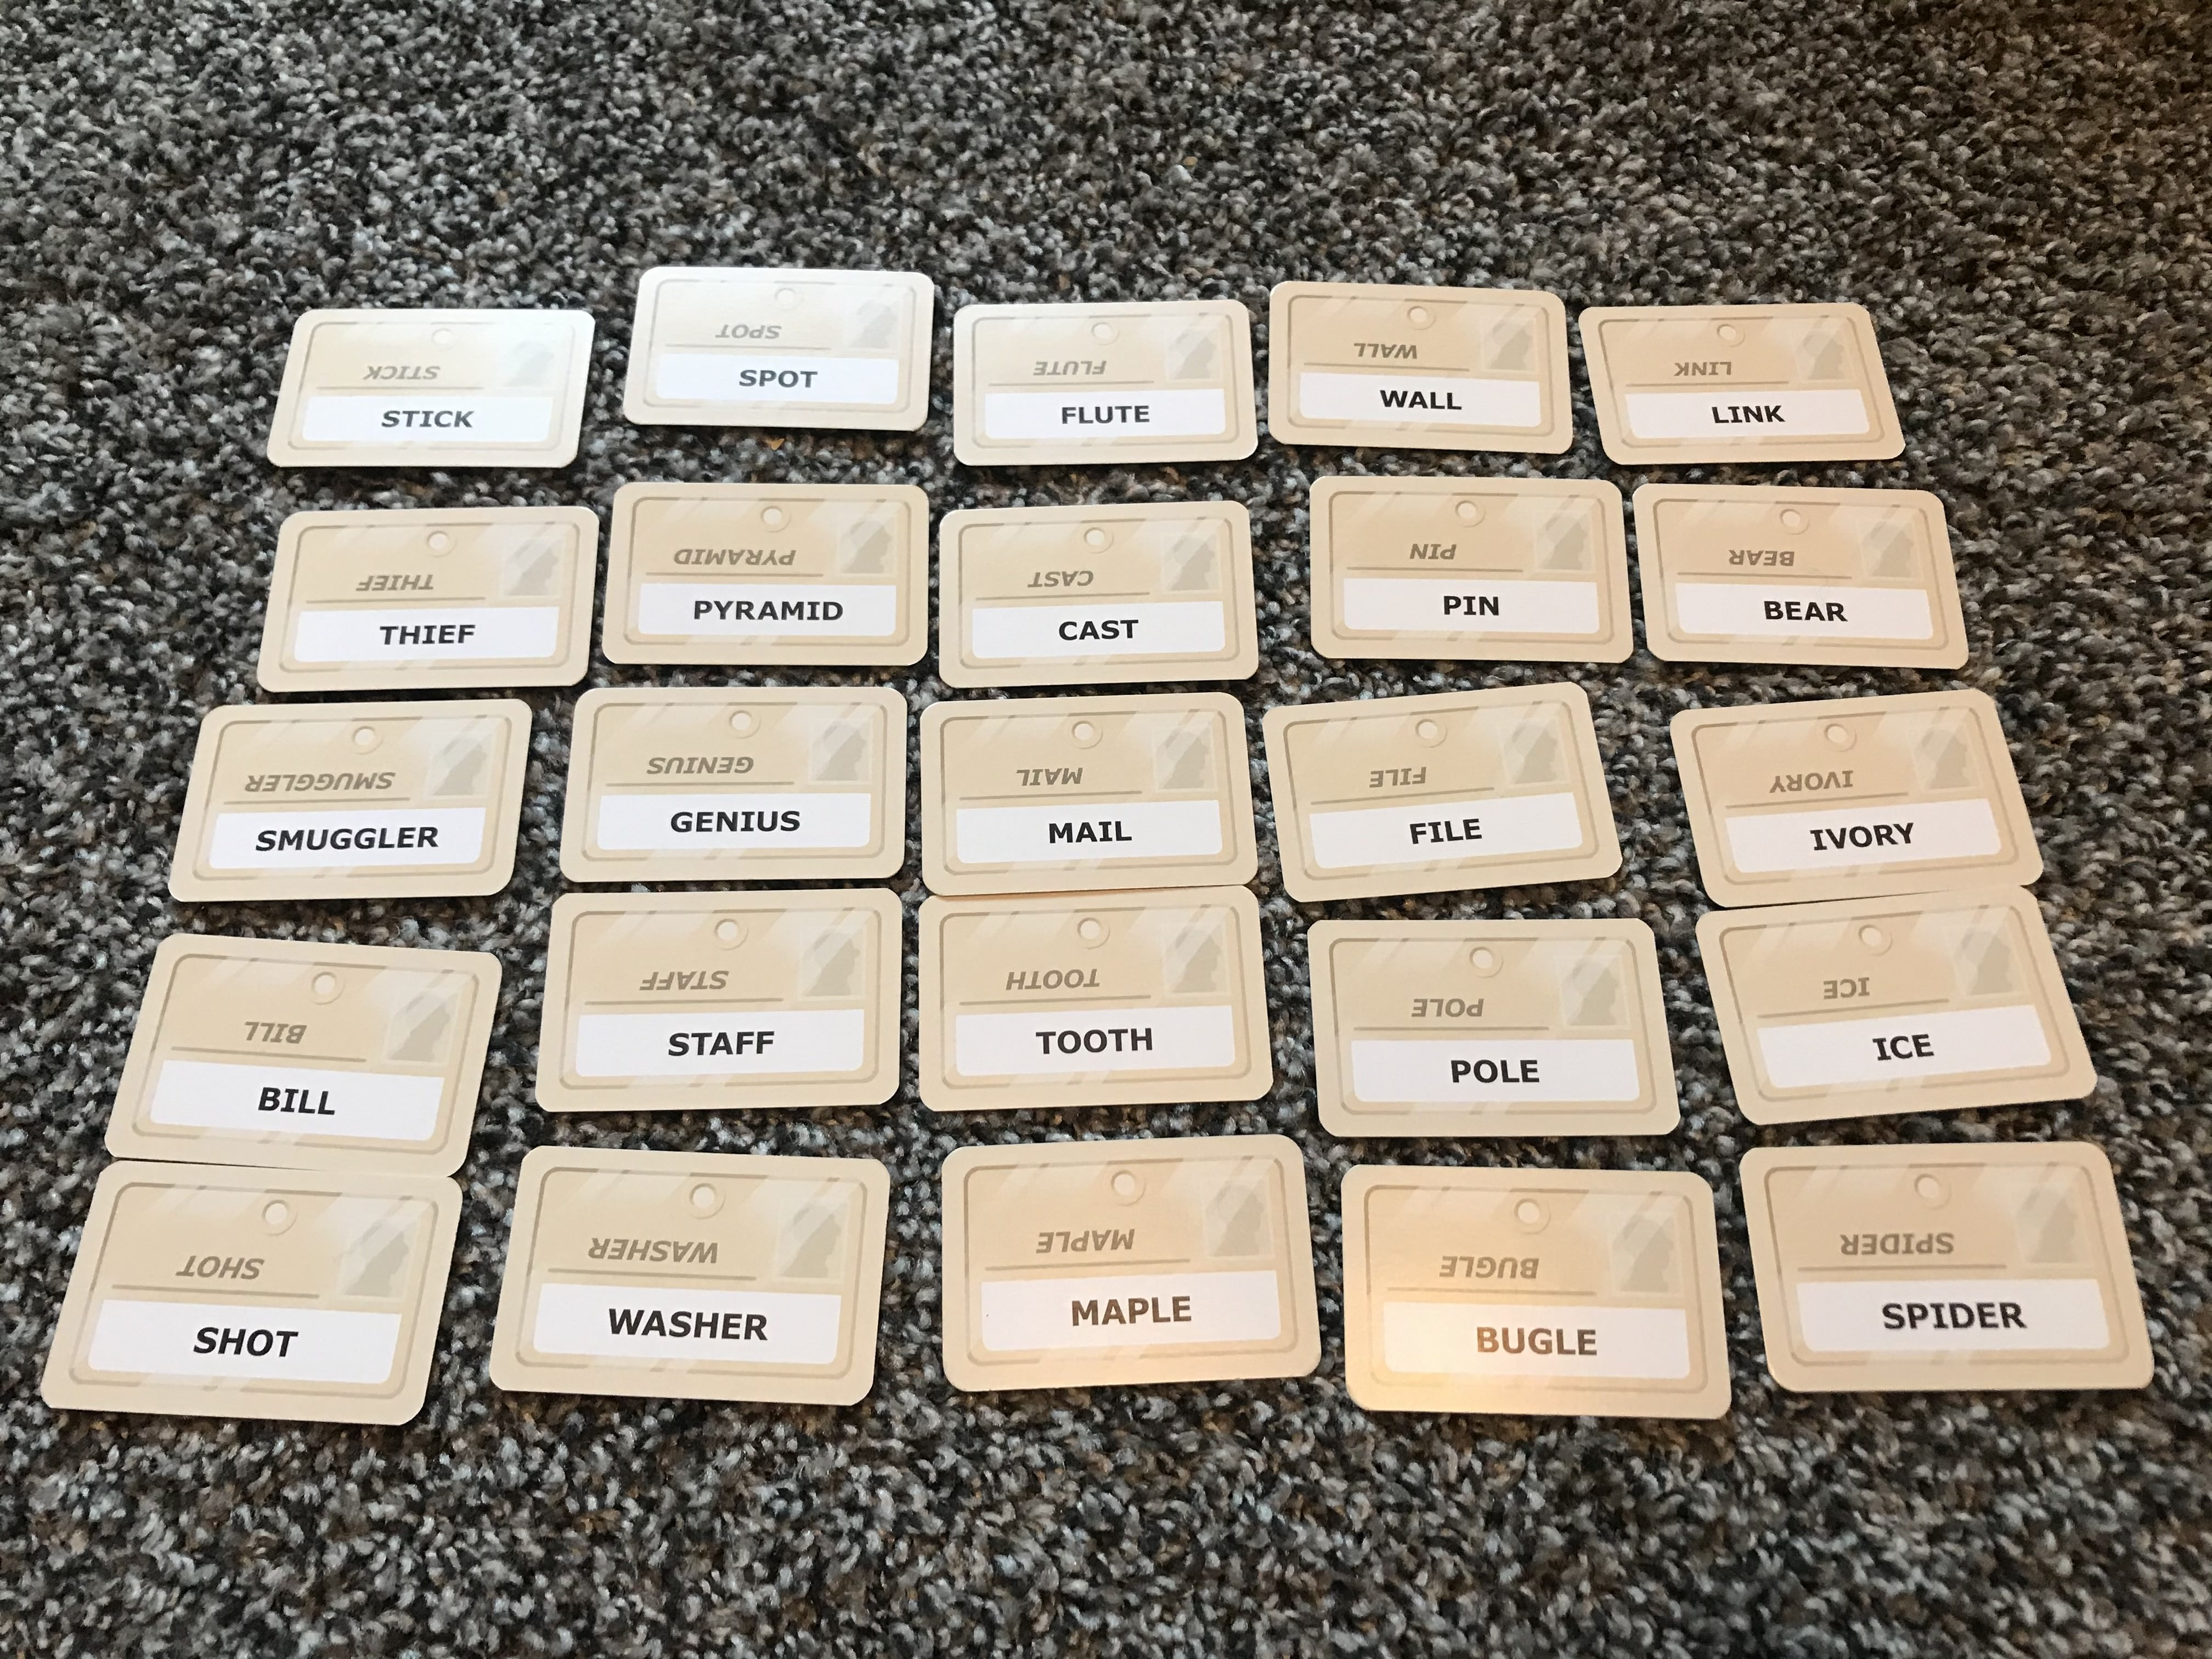A: (705, 1023, 737, 1068), (1801, 592, 1829, 633), (639, 1302, 664, 1347), (1101, 1293, 1125, 1337), (1071, 819, 1101, 852), (1075, 615, 1101, 652), (754, 594, 779, 629), (1406, 382, 1425, 420)
